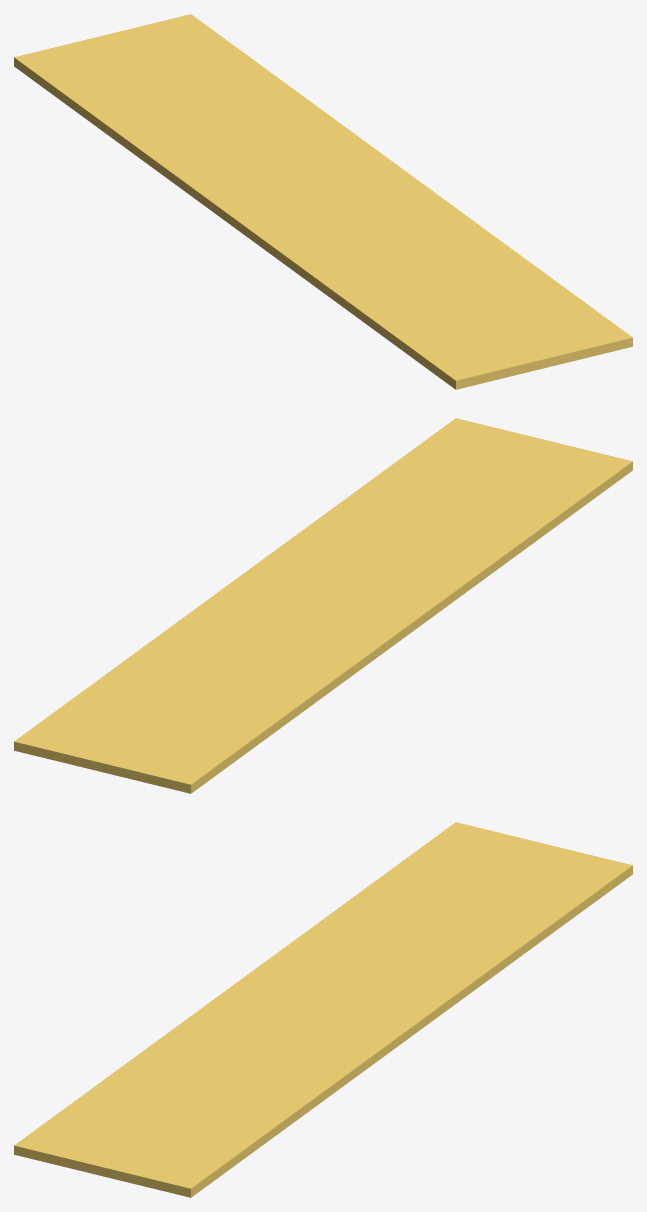
Rendered from track.glb.
The picture shows the model from 3 angles, top to bottom: view 1: azimuth 30°, elevation 25°; view 2: azimuth 150°, elevation 25°; view 3: azimuth 330°, elevation 25°; orthographic projection.
Parts seen in each view (by area): view 1: Plane; view 2: Plane; view 3: Plane.
Part boxes in pixels (bbox=[...]): Plane: bbox=[14, 14, 632, 389]; Plane: bbox=[14, 418, 632, 793]; Plane: bbox=[14, 822, 632, 1197].
Bounding box in the file's own units: 3.51 × 0.1724 × 15.19.
